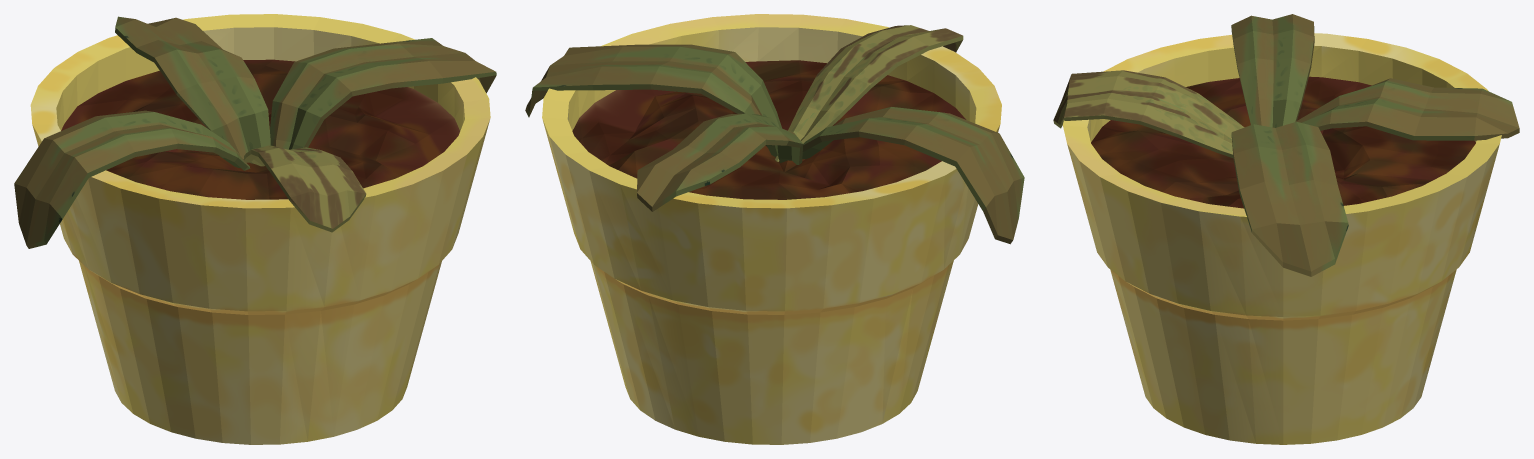
File: Phalaenopsis_Dead_End.glb
3 renders of one model, left to right at view 1: azimuth 30°, elevation 25°; view 2: azimuth 150°, elevation 25°; view 3: azimuth 270°, elevation 25°, orthographic. The views are drawn at different scales.
Parts seen in each view (by area): view 1: Pot, Plant; view 2: Pot, Plant; view 3: Pot, Plant.
Boxes of the visible parts, x1=… form: Pot: x1=30, y1=14, x2=490, y2=444; Plant: x1=14, y1=16, x2=496, y2=248; Pot: x1=542, y1=14, x2=1001, y2=444; Plant: x1=525, y1=25, x2=1024, y2=244; Pot: x1=1062, y1=33, x2=1501, y2=444; Plant: x1=1053, y1=14, x2=1519, y2=276.
Size of the model in its own units: 2.41 by 1.48 by 2.16.
Materials: 3 (3 with a texture image).
